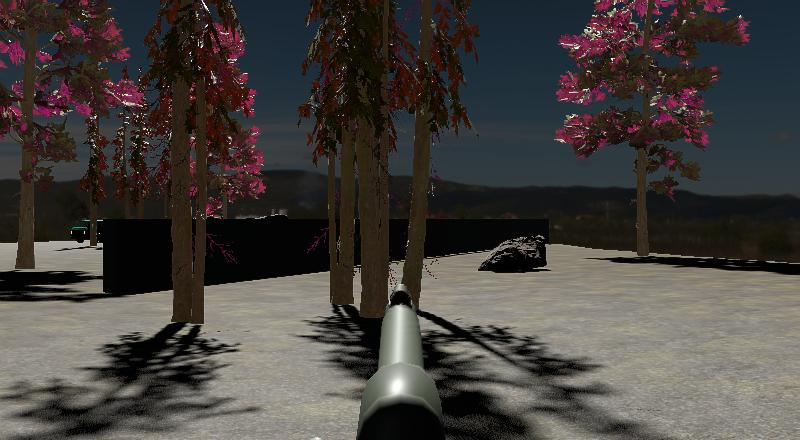car: (68, 217, 106, 244)
